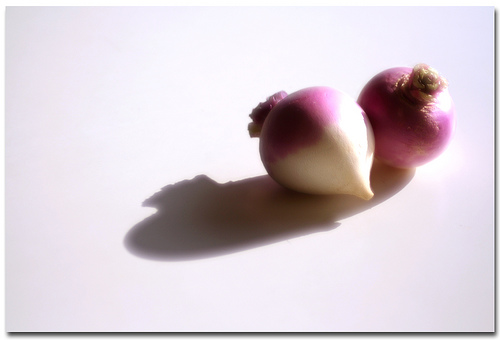turnip: (249, 86, 376, 200), (358, 61, 453, 168)
